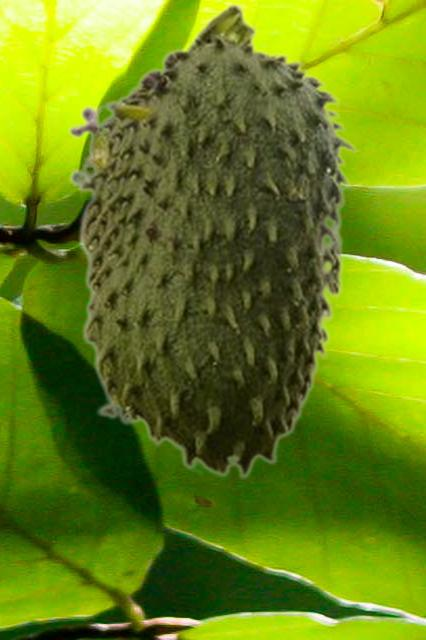guyabano: (68, 0, 357, 478)
